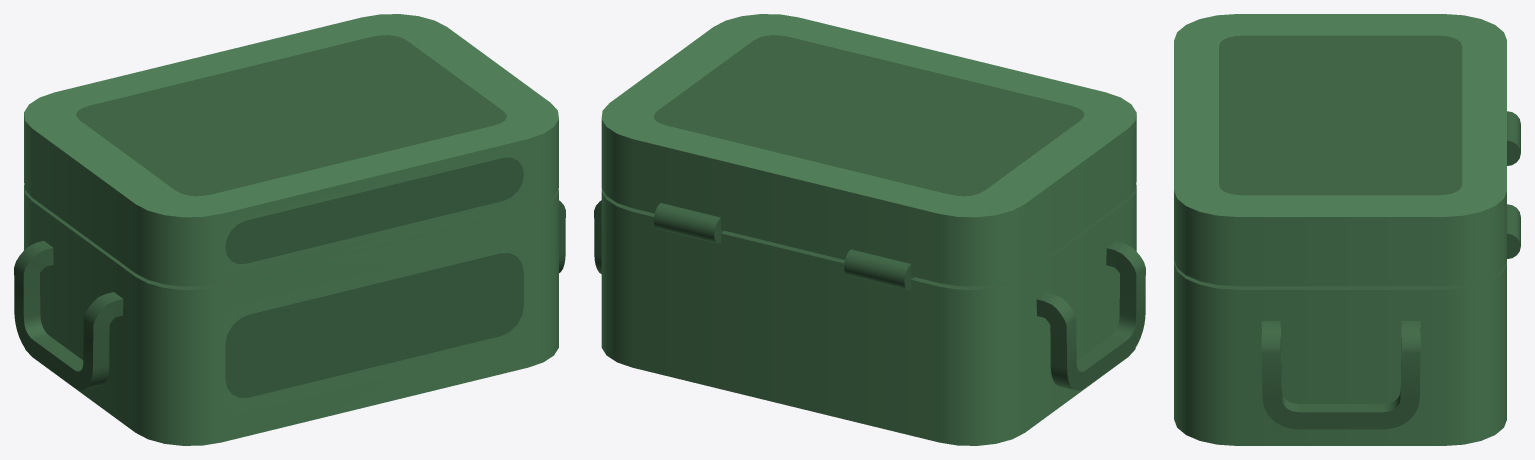
File: Ammo Box B.fbx
3 views of the same model, side by side, from view 1: azimuth 30°, elevation 25°; view 2: azimuth 150°, elevation 25°; view 3: azimuth 270°, elevation 25° (orthographic).
Visible parts, largest first — view 1: Ammo Box.002, Ammo Box.003; view 2: Ammo Box.002, Ammo Box.003; view 3: Ammo Box.002, Ammo Box.003.
Part boxes in pixels (<box>): Ammo Box.002: <box>24,14,558,286</box>; Ammo Box.003: <box>14,185,565,445</box>; Ammo Box.002: <box>601,14,1136,286</box>; Ammo Box.003: <box>594,185,1145,445</box>; Ammo Box.002: <box>1174,14,1506,286</box>; Ammo Box.003: <box>1174,111,1520,445</box>.
Size of the model in its own units: 1.73 by 0.8004 by 1.1.
